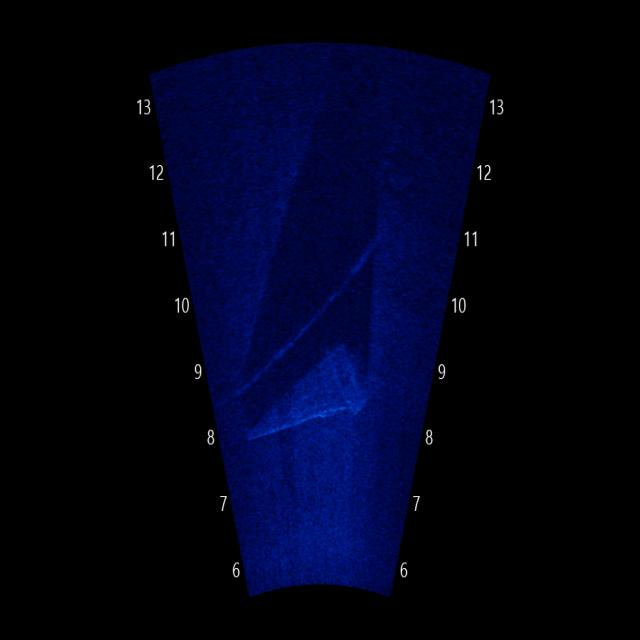circle: (377, 143, 427, 205), (250, 74, 296, 138)
triangle: (247, 331, 376, 453)
